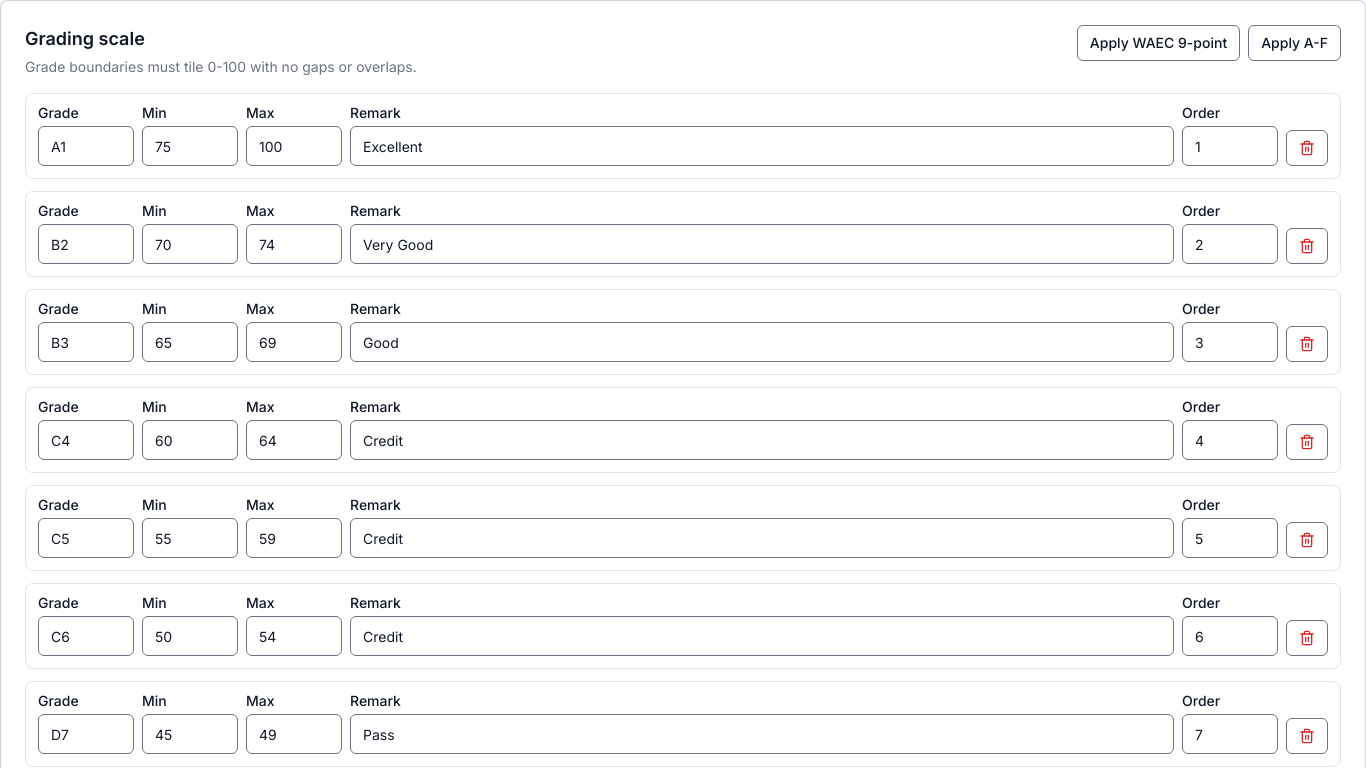
Test: GradingScalePanel › flags an overlap and blocks save
Expected: the 1st field showing "A1" is shown, [38,126,134,166]
Note: Make D7 overlap with E8 by lowering D7's min below E8's max.
Replace the text in the 7th number field labelled "Min" with "44" at (190, 734), box [142,714,238,754]
(page scrolled)
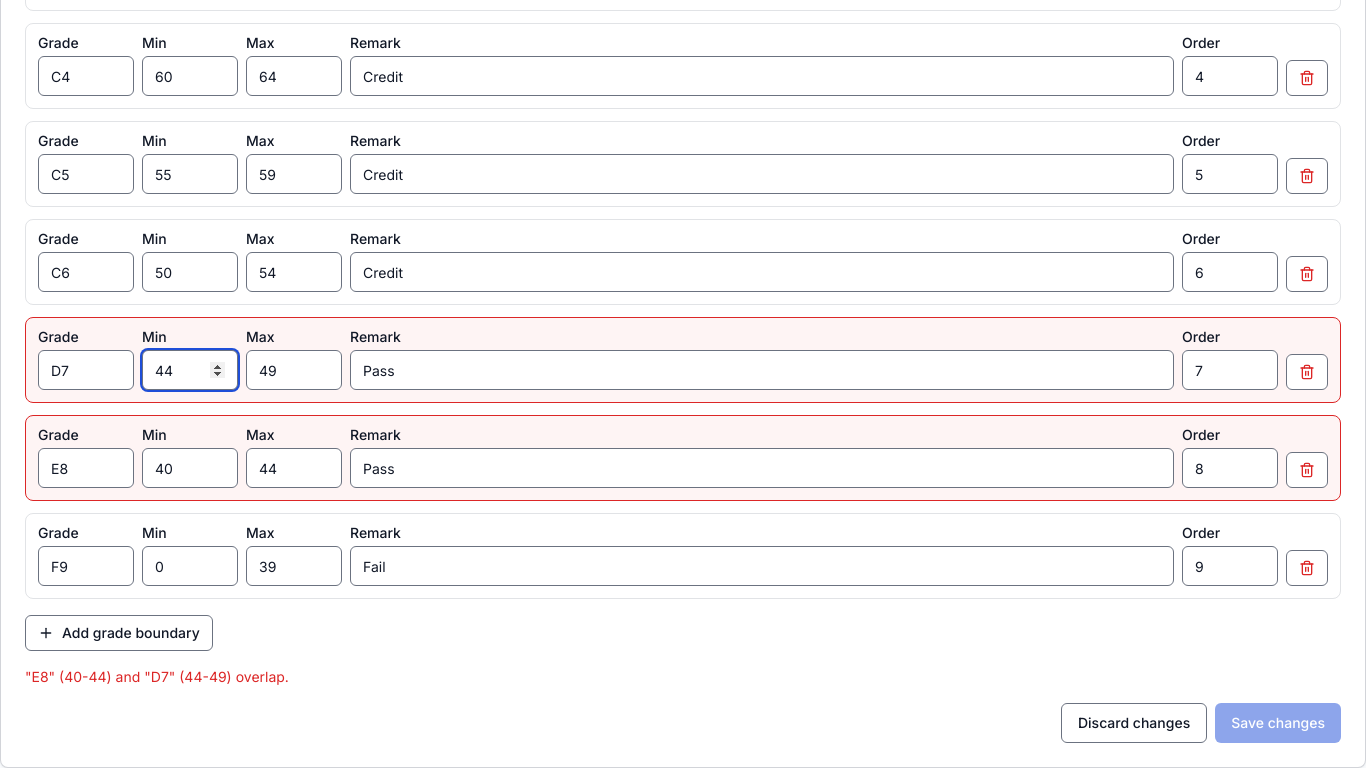
Expected: the button "Save changes" is disabled, [1215,703,1341,743]
Now the message shows "overlap", box [25,668,289,685]
